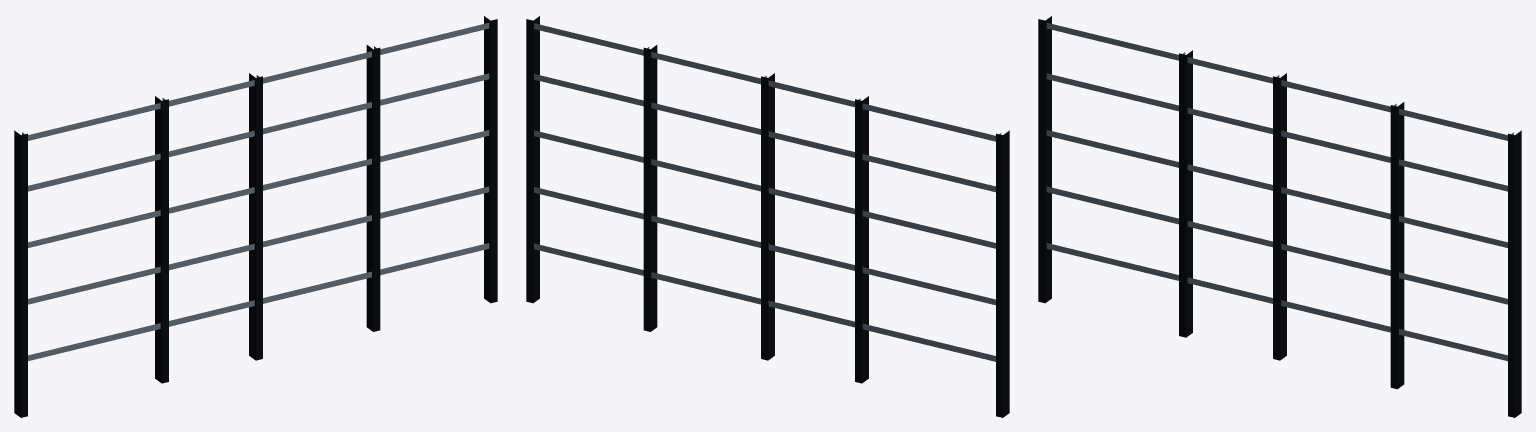
The model's file is tt_struct_climb_frame.glb.
The picture shows the model from 3 angles, left to right: view 1: azimuth 30°, elevation 25°; view 2: azimuth 150°, elevation 25°; view 3: azimuth 330°, elevation 25°; orthographic projection.
Parts seen in each view (by area): view 1: WCL_Posts, WCL_Girts; view 2: WCL_Posts, WCL_Girts; view 3: WCL_Posts, WCL_Girts.
Part boxes in pixels (x1=…): WCL_Posts: x1=14, y1=16, x2=497, y2=417; WCL_Girts: x1=22, y1=23, x2=489, y2=361; WCL_Posts: x1=526, y1=16, x2=1009, y2=417; WCL_Girts: x1=534, y1=23, x2=1001, y2=361; WCL_Posts: x1=1038, y1=16, x2=1521, y2=417; WCL_Girts: x1=1046, y1=23, x2=1513, y2=361.
Size of what is drawn, in the model's own units: 20.3 by 11.5 by 0.5.
2 materials, 2 textured.
